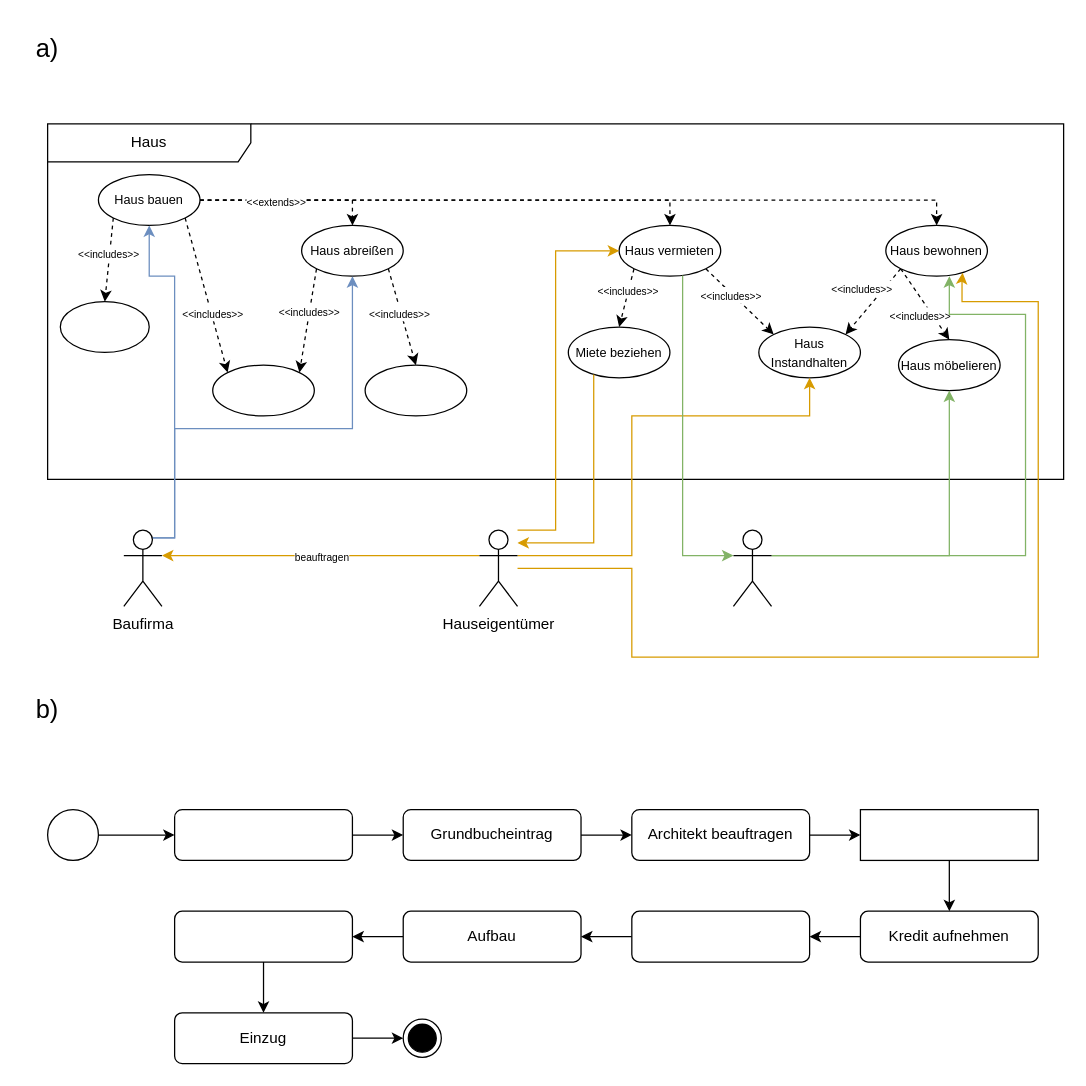
Some shapes in this 1086 by 1086 pixel diagram are drawn without their labels. Each missing label, with the centre of its shape:
Arbeitsgeräte: the point at 262,390
Baufirma beauftragen: the point at 720,936
Baustoffe beschaffen: the point at 104,326
Baustoffe entsorgen: the point at 415,390
Bauzeichnung: the point at 948,834
Bezahlung: the point at 262,936
Grundstück suchen: the point at 262,834
Mieter: the point at 752,567
